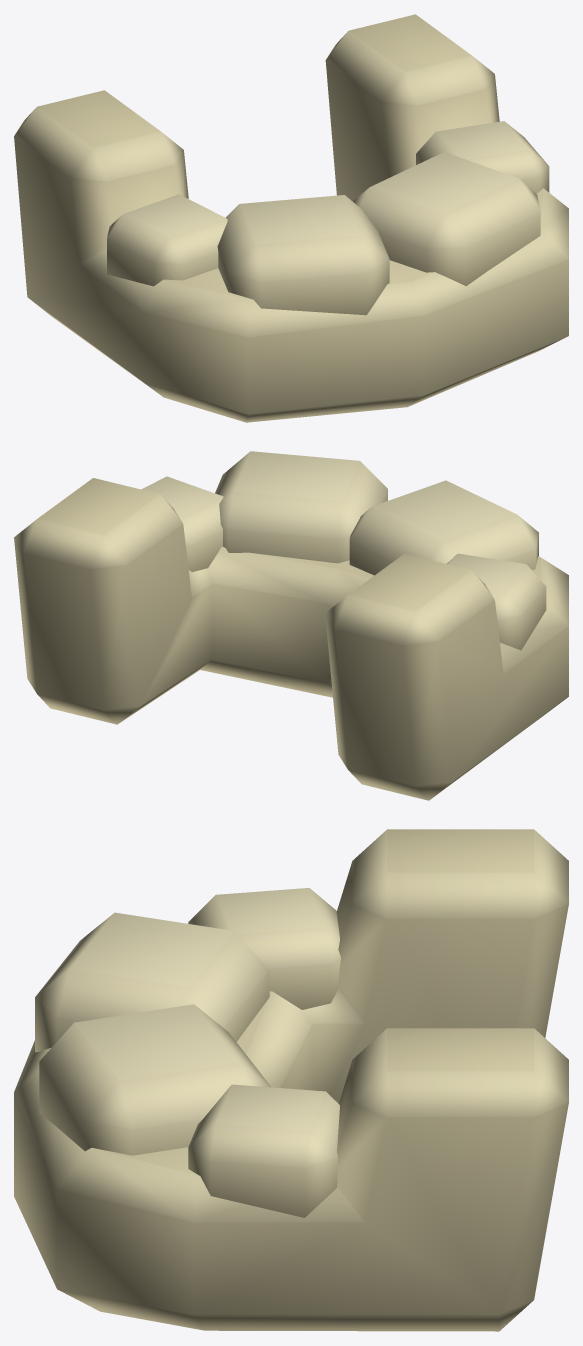
The model's file is jaw_skeleton_male.fbx.
3 renders of one model, top to bottom at view 1: azimuth 30°, elevation 25°; view 2: azimuth 150°, elevation 25°; view 3: azimuth 270°, elevation 25°, orthographic. The views are drawn at different scales.
Visible parts, largest first — view 1: jaw_skeleton_male; view 2: jaw_skeleton_male; view 3: jaw_skeleton_male.
Boxes of the visible parts, bbox=[...] form: jaw_skeleton_male: bbox=[14, 14, 568, 422]; jaw_skeleton_male: bbox=[14, 451, 568, 800]; jaw_skeleton_male: bbox=[14, 829, 568, 1331].
Bounding box in the file's own units: 38.26 × 18.33 × 33.12.
